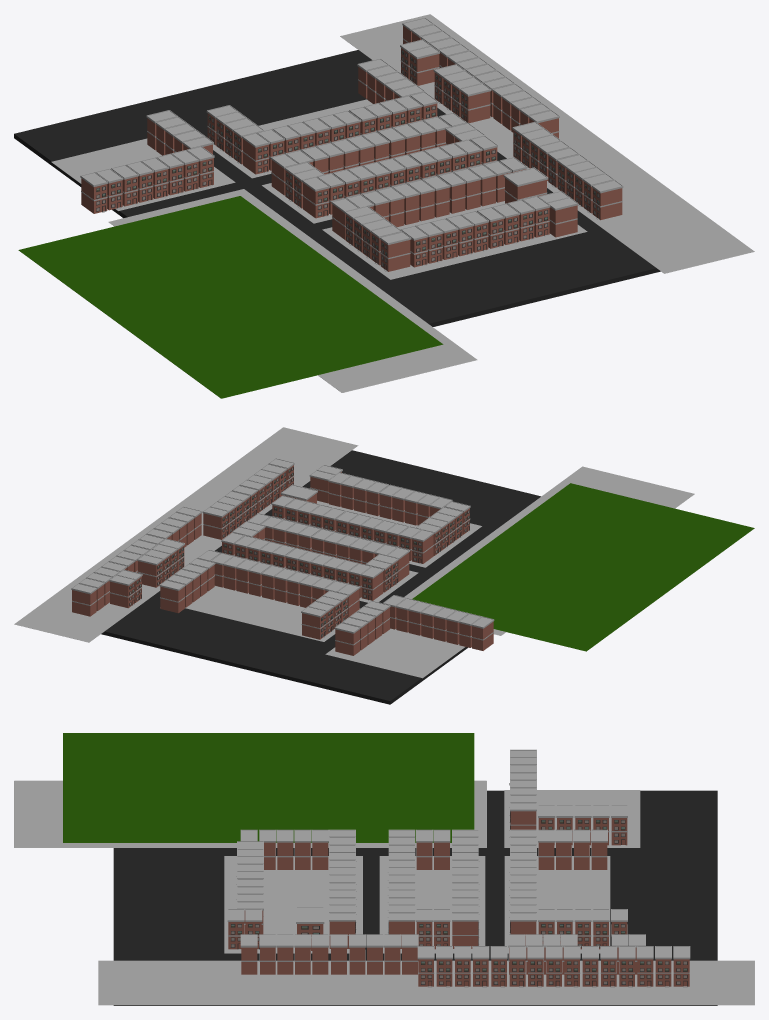
File: Map_1.fbx
The picture shows the model from 3 angles, top to bottom: view 1: azimuth 30°, elevation 25°; view 2: azimuth 150°, elevation 25°; view 3: azimuth 270°, elevation 25°; orthographic projection. The views are drawn at different scales.
Visible parts, largest first — view 1: park_base, base, sidewalk6, sidewalk7, sidewalk4, sidewalk3, polySurface206, sidewalk5, polySurface207, polySurface219, polySurface230, polySurface208 (+28 smaller); view 2: park_base, base, sidewalk6, sidewalk7, sidewalk4, sidewalk5, polySurface200, polySurface250, polySurface228, polySurface244, polySurface139, polySurface153 (+12 smaller); view 3: park_base, base, sidewalk6, sidewalk7, sidewalk3, sidewalk5, sidewalk, sidewalk4, polySurface177, polySurface206, polySurface136, polySurface240 (+49 smaller).
Boxes of the visible parts, x1,y1,x2,y2 form: park_base: (18, 196, 443, 398); base: (14, 50, 660, 326); sidewalk6: (340, 14, 754, 273); sidewalk7: (108, 189, 477, 392); sidewalk4: (51, 138, 235, 211); sidewalk3: (322, 201, 587, 279); polySurface206: (503, 167, 548, 203); sidewalk5: (213, 99, 372, 178); polySurface207: (379, 231, 411, 271); polySurface219: (592, 180, 623, 220); polySurface230: (459, 83, 491, 123); polySurface208: (547, 197, 578, 237); park_base: (412, 483, 754, 651); base: (101, 450, 540, 704); sidewalk6: (14, 427, 358, 642); sidewalk7: (404, 466, 694, 635); sidewalk4: (325, 628, 464, 678); sidewalk5: (185, 586, 359, 641); polySurface200: (301, 606, 327, 639); polySurface250: (109, 575, 135, 608); polySurface228: (202, 506, 228, 539); polySurface244: (71, 583, 97, 616); polySurface139: (334, 622, 360, 655); polySurface153: (159, 580, 185, 613); park_base: (63, 733, 474, 842); base: (113, 790, 717, 1005); sidewalk6: (98, 960, 754, 1005); sidewalk7: (14, 780, 486, 847); sidewalk3: (224, 856, 362, 953); sidewalk5: (504, 856, 610, 953); sidewalk: (379, 856, 485, 953); sidewalk4: (504, 790, 640, 847); polySurface177: (452, 912, 479, 948); polySurface206: (296, 907, 324, 950); polySurface136: (509, 802, 536, 837); polySurface240: (509, 946, 526, 987).
Bounding box in the file's own units: 694 × 40.32 × 799.
